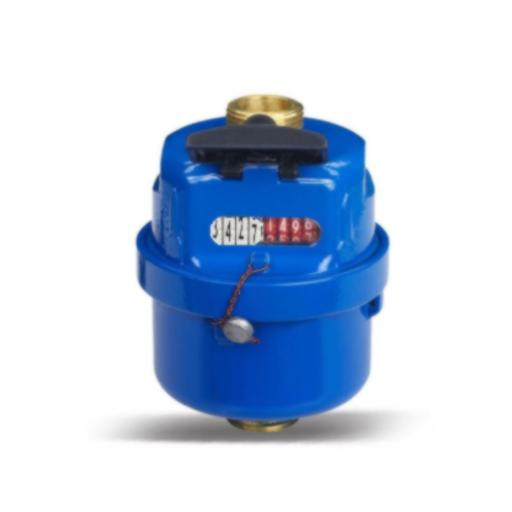1: (265, 218, 276, 244)
2: (237, 217, 248, 243)
3: (211, 217, 222, 244)
4: (224, 218, 235, 245), (279, 219, 290, 244)
6: (304, 219, 322, 244)
7: (250, 219, 263, 244)
9: (291, 218, 302, 243)
border_water_meter_number: (210, 217, 323, 246)
